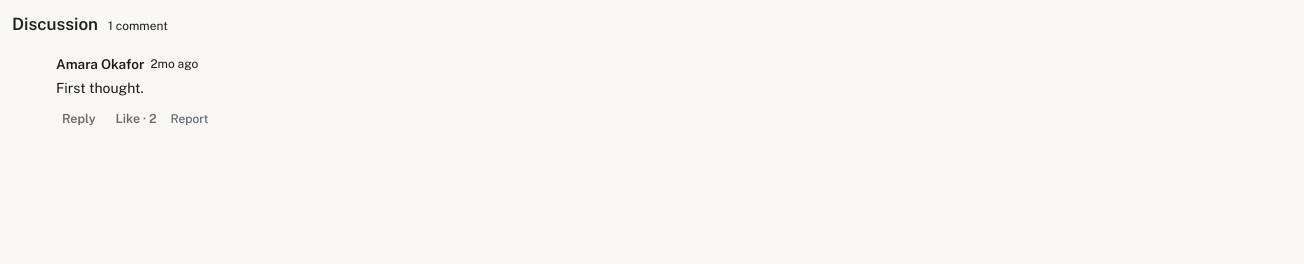
Test: CommentThread › posts a reply against the parent and shows it in the thread
Step 1. Click the button "Reply" → click(79, 119), box [56,103,102,135]
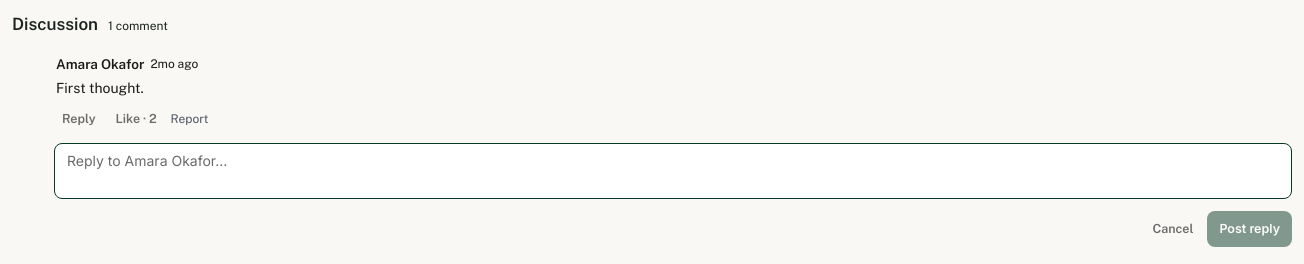
Step 2. Type "A reply." into the text box named "Write a reply" → (673, 171), box [54,143,1292,199]
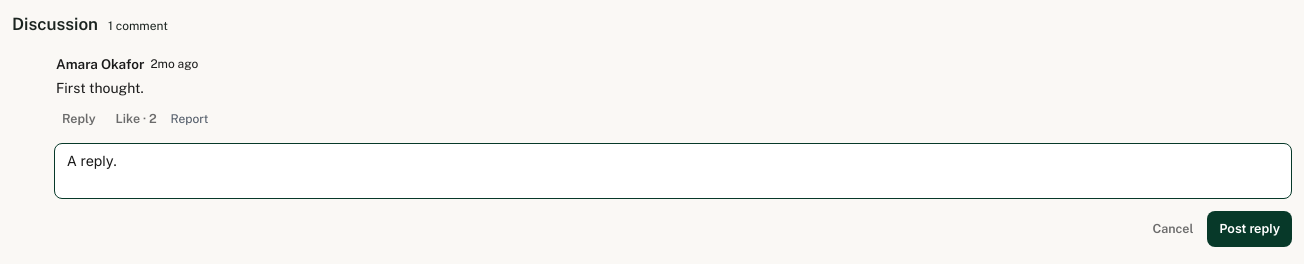
Step 3. Click the button "Post reply" → click(1250, 229), box [1207,211,1292,247]
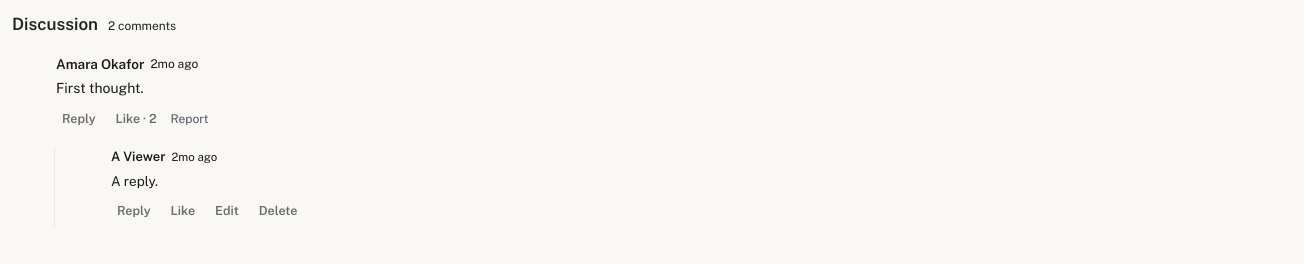
Expected: the text "A reply." is shown, [111,173,158,189]
Expected: the heading named "Discussion 2 comments?" is shown, [12,12,176,38]
